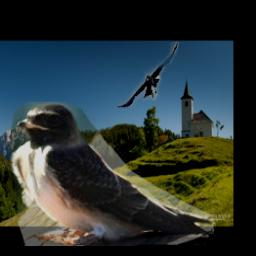Crow: (116, 42, 178, 107)
Swallow: (10, 102, 216, 246)
